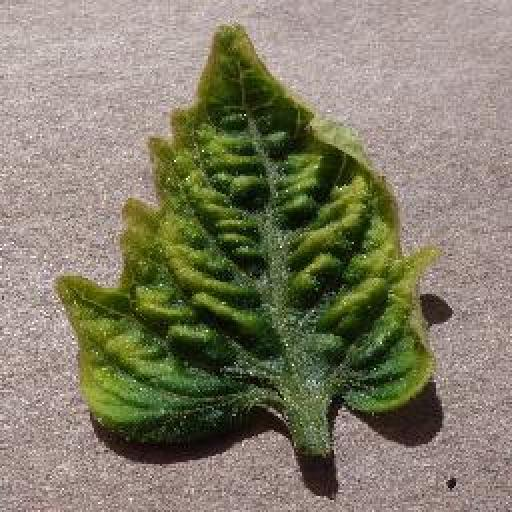Yellow Leaf Curl Virus: (56, 24, 437, 448)
